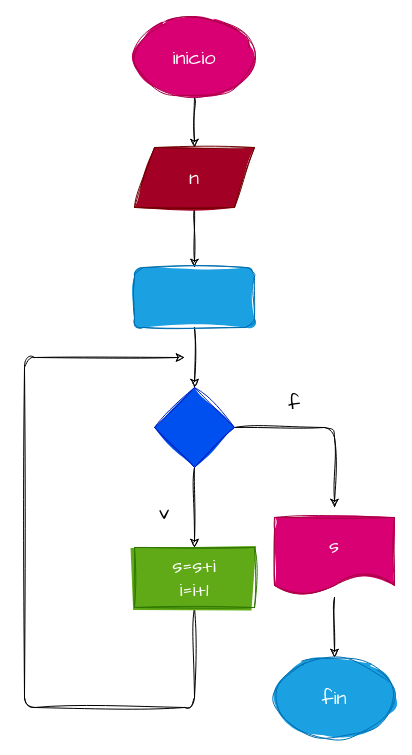
This 412x755 diagram has some shape labels left out. Each missing label, with the centre of its shape:
i<=n: the point at 194,427
s=0 i=1: the point at 194,297
